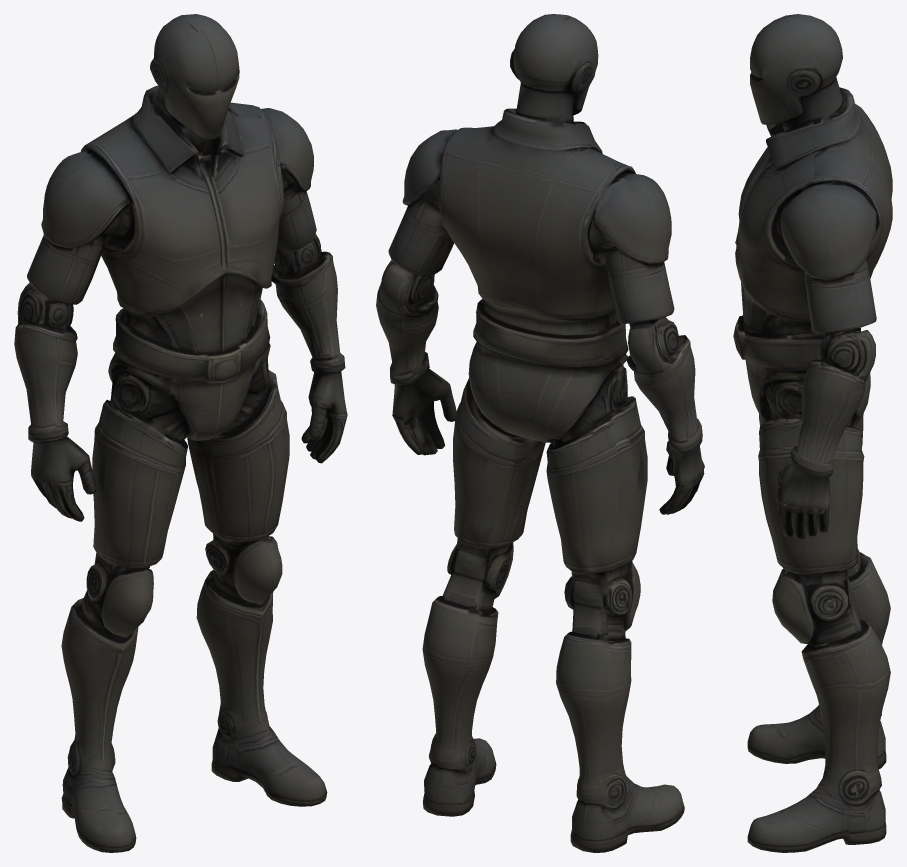
Rendered from iron_gate_realistic_style_b0256527_v1.glb.
The picture shows the model from 3 angles, left to right: view 1: azimuth 30°, elevation 25°; view 2: azimuth 150°, elevation 25°; view 3: azimuth 270°, elevation 25°; orthographic projection.
Parts seen in each view (by area): view 1: texture_pbr_20250901; view 2: texture_pbr_20250901; view 3: texture_pbr_20250901.
Part boxes in pixels (x1=…): texture_pbr_20250901: x1=14, y1=14, x2=347, y2=852; texture_pbr_20250901: x1=376, y1=14, x2=704, y2=852; texture_pbr_20250901: x1=733, y1=14, x2=892, y2=852.
Size of the model in its own units: 0.7813 by 1.9 by 0.3516.
Materials: 1 (1 with a texture image).
